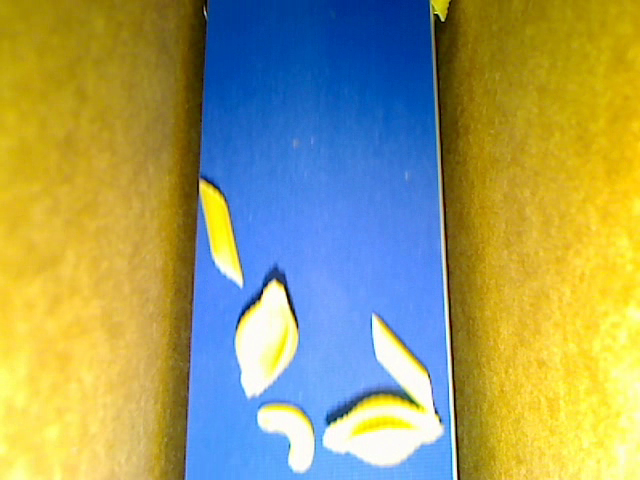elbow: (255, 403, 316, 473)
penne: (371, 310, 435, 414), (198, 176, 244, 287)
shell: (322, 393, 443, 465), (232, 278, 299, 398)
